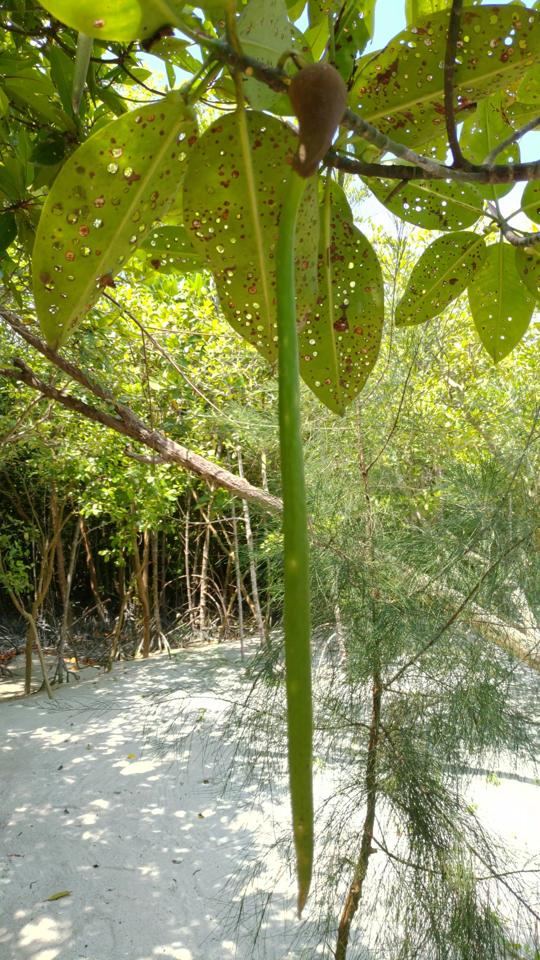mentah: (263, 33, 359, 938)
